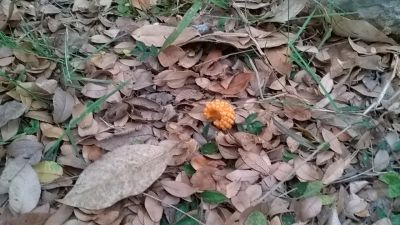eggs: (203, 98, 237, 131)
